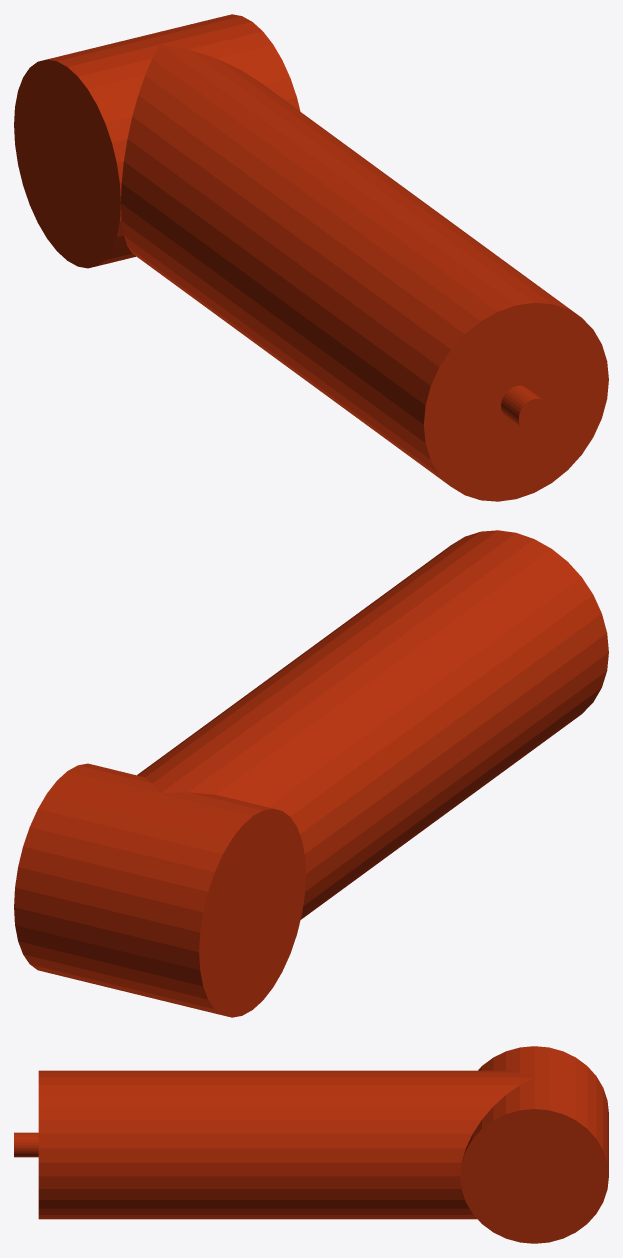
The picture shows the model from 3 angles, top to bottom: view 1: azimuth 30°, elevation 25°; view 2: azimuth 150°, elevation 25°; view 3: azimuth 270°, elevation 25°; orthographic projection. The views are drawn at different scales.
Parts seen in each view (by area): view 1: l2; view 2: l2; view 3: l2.
Boxes of the visible parts, <box> form: l2: <box>14,14,608,501</box>; l2: <box>14,530,608,1017</box>; l2: <box>14,1046,608,1243</box>.
Bounding box in the file's own units: 0.3 × 0.3 × 1.2.
